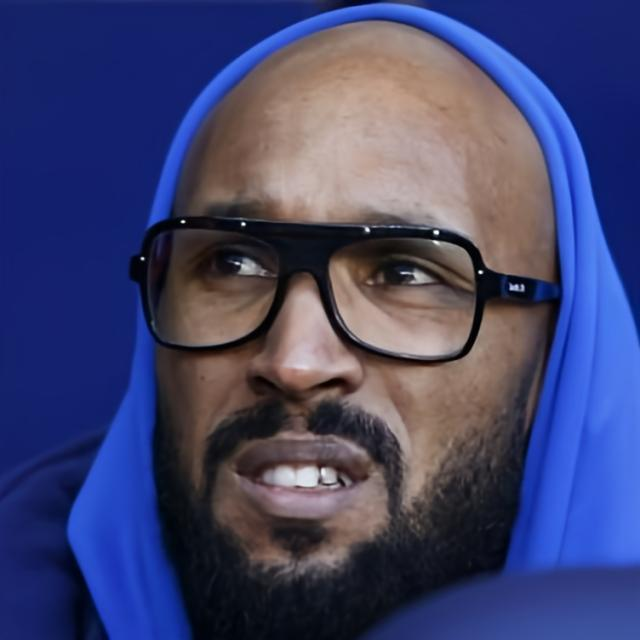disgust: (154, 20, 556, 640)
